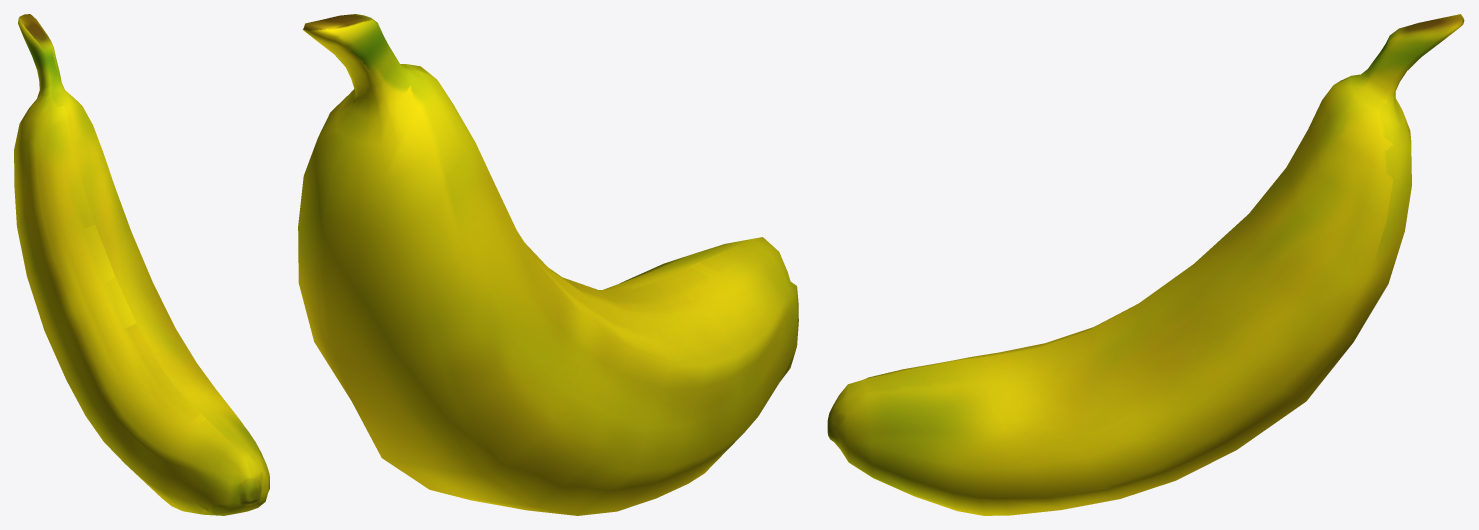
The model's file is banana_camera.fbx.
The picture shows the model from 3 angles, left to right: view 1: azimuth 30°, elevation 25°; view 2: azimuth 150°, elevation 25°; view 3: azimuth 270°, elevation 25°; orthographic projection. The views are drawn at different scales.
Visible parts, largest first — view 1: Cube; view 2: Cube; view 3: Cube.
Part boxes in pixels (x1=…): Cube: x1=14, y1=14, x2=269, y2=515; Cube: x1=298, y1=14, x2=798, y2=515; Cube: x1=827, y1=14, x2=1464, y2=515.
Bounding box in the file's own units: 344 × 1090 × 1292.
1 material, 1 textured.
